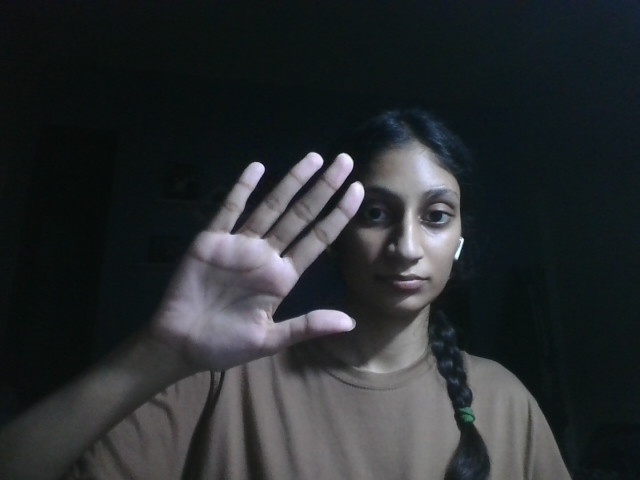hello: (148, 147, 361, 353)
